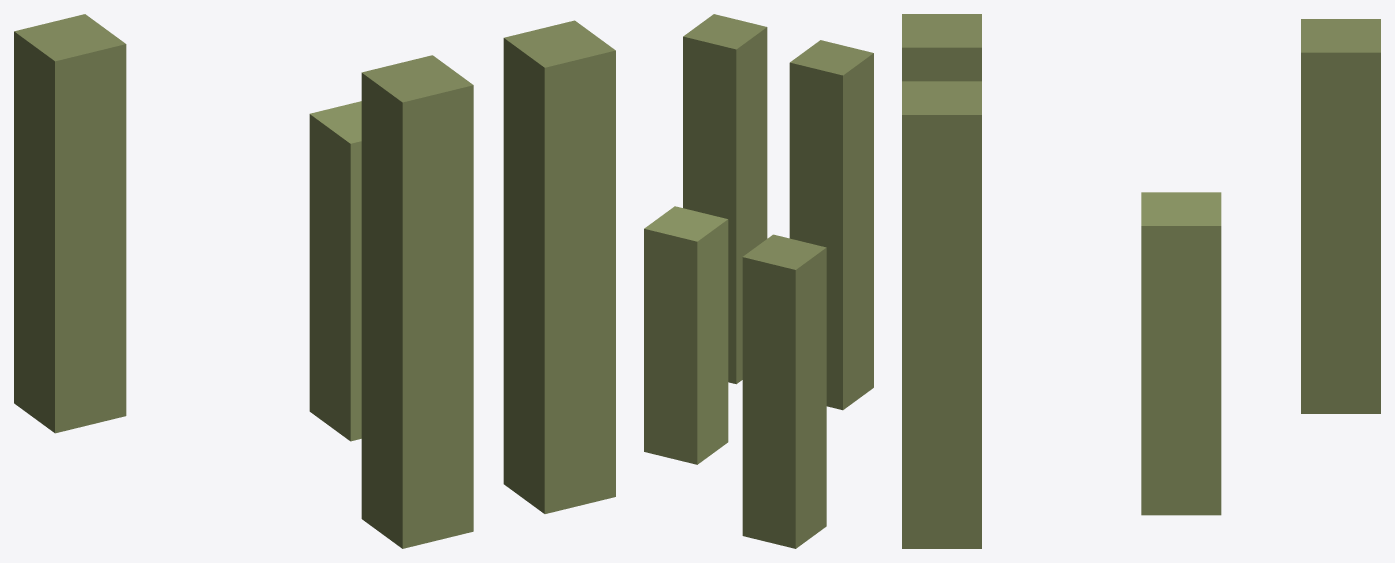
The model's file is musgo_de_turbera_02.glb.
The picture shows the model from 3 angles, left to right: view 1: azimuth 30°, elevation 25°; view 2: azimuth 150°, elevation 25°; view 3: azimuth 270°, elevation 25°; orthographic projection. The views are drawn at different scales.
Parts seen in each view (by area): view 1: musgo_de_turbera_02; view 2: musgo_de_turbera_02; view 3: musgo_de_turbera_02.
Boxes of the visible parts, <box> form: musgo_de_turbera_02: <box>14,14,615,548</box>; musgo_de_turbera_02: <box>644,14,873,548</box>; musgo_de_turbera_02: <box>902,14,1380,548</box>.
Size of the model in its own units: 0.5 by 0.6 by 0.6.
